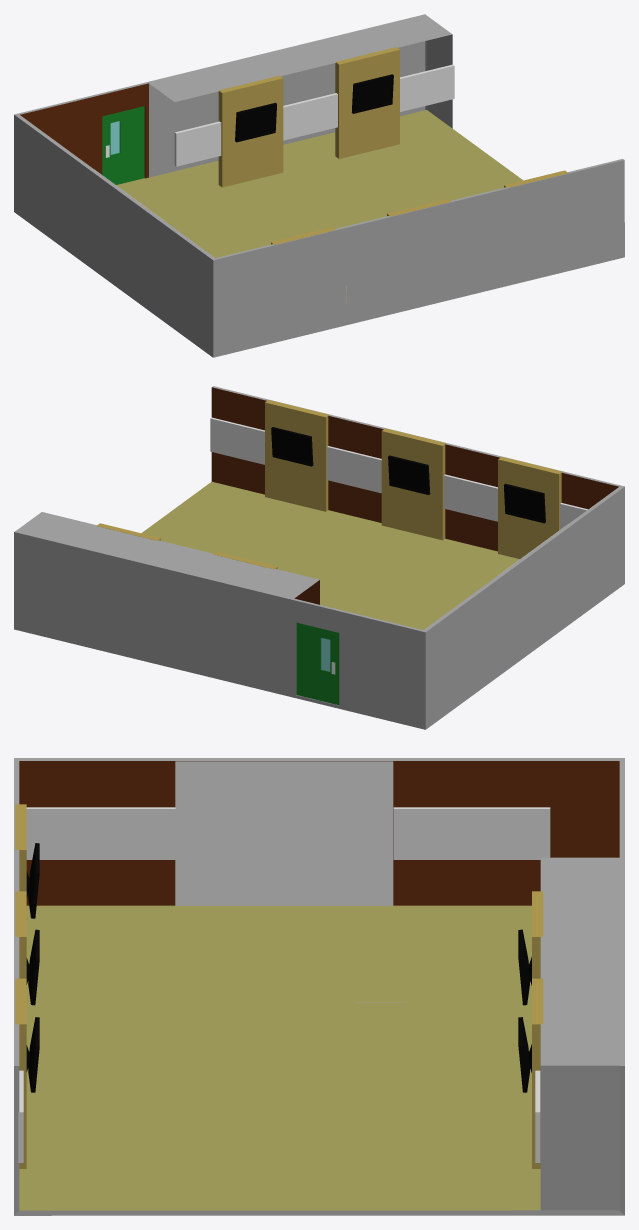
The model's file is Smart_Classroom_Extended.glb.
3 views of the same model, one above another, from view 1: azimuth 30°, elevation 25°; view 2: azimuth 150°, elevation 25°; view 3: azimuth 270°, elevation 25° (orthographic). The views are drawn at different scales.
Parts seen in each view (by area): view 1: Class Base, Panel.003, Panel.004, BoArD_RiGhT.001, BoArD_RiGhT.003, BoArD_RiGhT.002, TV.002, TV.003; view 2: Class Base, Panel.002, Panel.005, Panel.001, BoArD_LeFt.001, BoArD_LeFt.002, BoArD_LeFt.003, TV.004, TV.001, TV; view 3: Class Base, Screen, BoArD_Mid2, BoArD_Mid, Panel.004, Panel.005, Panel.003, Panel.002, Panel.001, TV.001, TV, TV.002 (+2 smaller).
Part boxes in pixels (x1=…): Class Base: x1=14, y1=14, x2=624, y2=357; Panel.003: x1=218, y1=75, x2=283, y2=187; Panel.004: x1=335, y1=47, x2=399, y2=158; BoArD_RiGhT.001: x1=283, y1=93, x2=337, y2=140; BoArD_RiGhT.003: x1=400, y1=64, x2=454, y2=111; BoArD_RiGhT.002: x1=174, y1=121, x2=221, y2=166; TV.002: x1=235, y1=102, x2=276, y2=142; TV.003: x1=351, y1=74, x2=393, y2=113; Class Base: x1=14, y1=386, x2=624, y2=729; Panel.002: x1=381, y1=428, x2=446, y2=540; Panel.005: x1=265, y1=400, x2=329, y2=511; Panel.001: x1=498, y1=457, x2=562, y2=558; BoArD_LeFt.001: x1=443, y1=474, x2=497, y2=521; BoArD_LeFt.002: x1=327, y1=446, x2=381, y2=493; BoArD_LeFt.003: x1=210, y1=417, x2=264, y2=464; TV.004: x1=271, y1=427, x2=313, y2=466; TV.001: x1=388, y1=455, x2=430, y2=494; TV: x1=504, y1=483, x2=545, y2=523; Class Base: x1=14, y1=758, x2=624, y2=1215; Screen: x1=175, y1=761, x2=393, y2=905; BoArD_Mid2: x1=393, y1=807, x2=550, y2=859; BoArD_Mid: x1=26, y1=807, x2=175, y2=859; Panel.004: x1=532, y1=978, x2=543, y2=1168; Panel.005: x1=15, y1=978, x2=26, y2=1168; Panel.003: x1=532, y1=891, x2=543, y2=978; Panel.002: x1=15, y1=891, x2=26, y2=978; Panel.001: x1=15, y1=804, x2=26, y2=891; TV.001: x1=26, y1=929, x2=39, y2=1005; TV: x1=26, y1=843, x2=39, y2=918; TV.002: x1=518, y1=929, x2=531, y2=1005.
Bounding box in the file's own units: 5.62 × 1.27 × 4.71.
